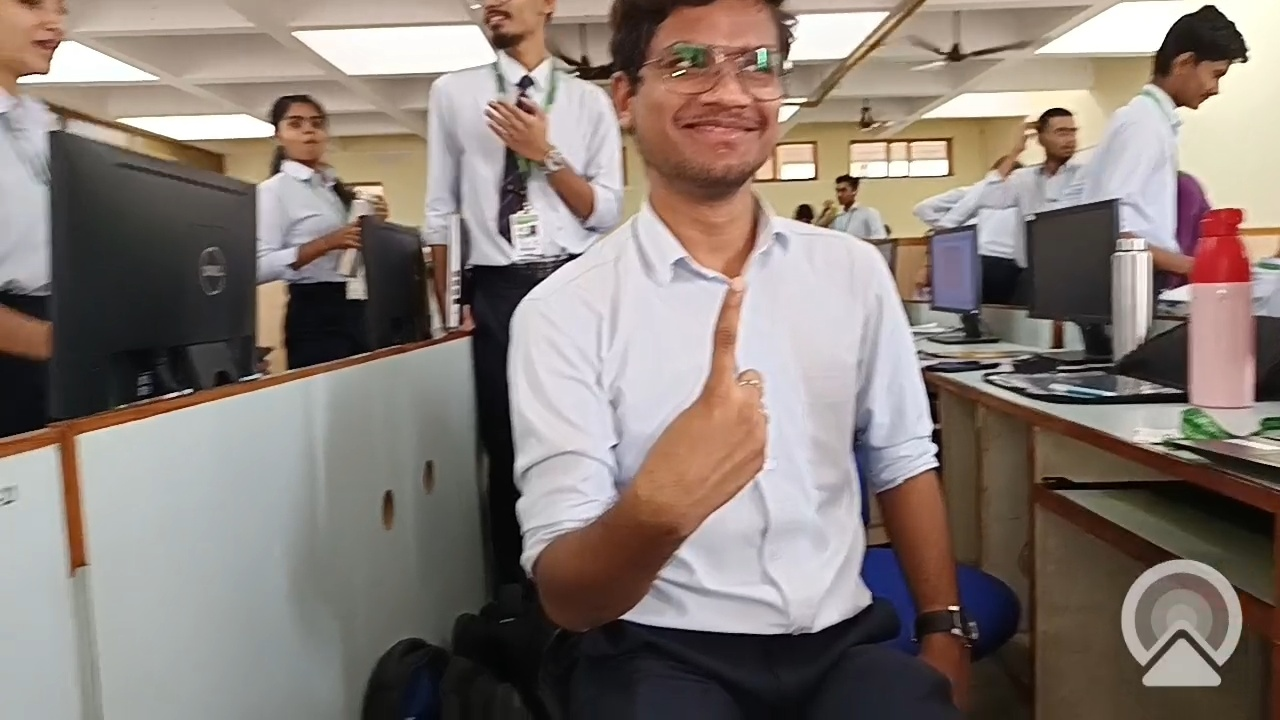I: (584, 256, 788, 579)
